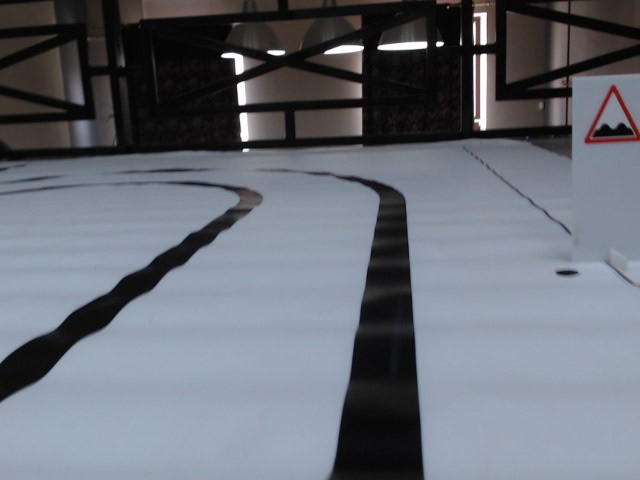Nerov: (583, 83, 640, 148)
